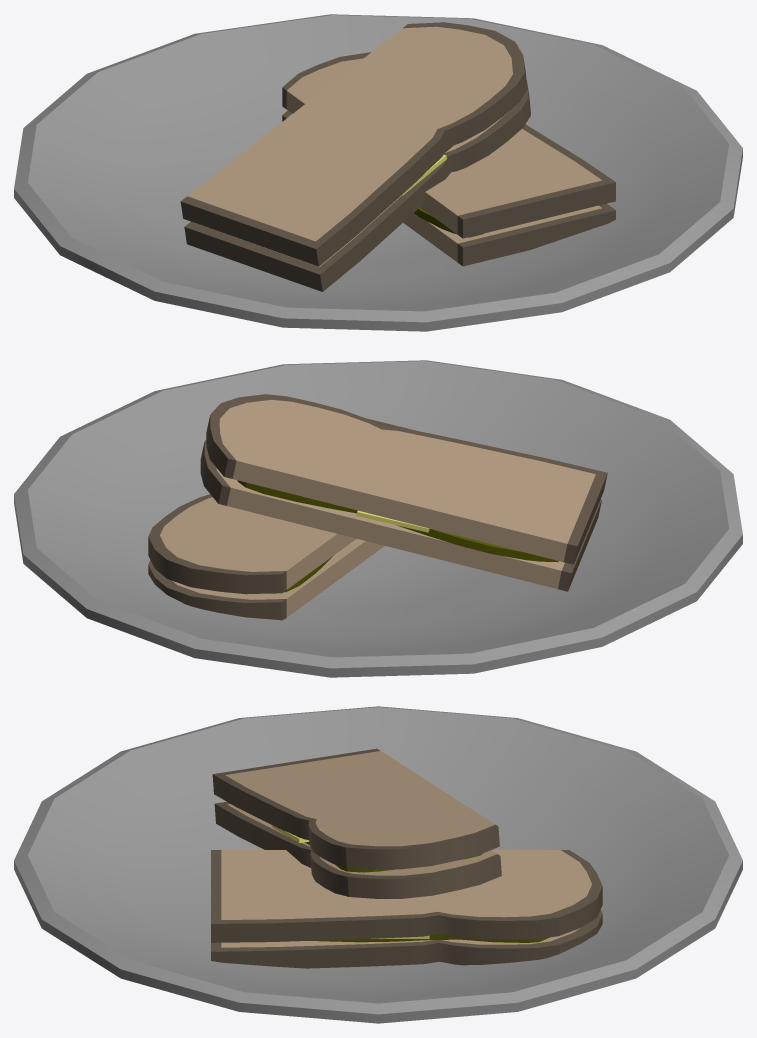
File: kaya toast 1.fbx
3 renders of one model, top to bottom at view 1: azimuth 30°, elevation 25°; view 2: azimuth 150°, elevation 25°; view 3: azimuth 270°, elevation 25°, orthographic.
Visible parts, largest first — view 1: Plate1, bread (×2), Bread (×2); view 2: Plate1, bread (×2), Bread (×2), kaya; view 3: Plate1, bread (×2), Bread (×2), kaya.
Boxes of the visible parts, left/top/right/bottom form: Plate1: left=14, top=14, right=742, bottom=331; bread (×2): left=180, top=22, right=615, bottom=266; Bread (×2): left=184, top=80, right=615, bottom=291; Plate1: left=14, top=360, right=742, bottom=677; bread (×2): left=148, top=394, right=607, bottom=594; Bread (×2): left=148, top=440, right=601, bottom=620; kaya: left=237, top=480, right=558, bottom=561; Plate1: left=14, top=706, right=742, bottom=1023; bread (×2): left=211, top=748, right=602, bottom=942; Bread (×2): left=211, top=801, right=602, bottom=968; kaya: left=310, top=934, right=549, bottom=942.
Size of the model in its own units: 2 by 0.4444 by 2.
